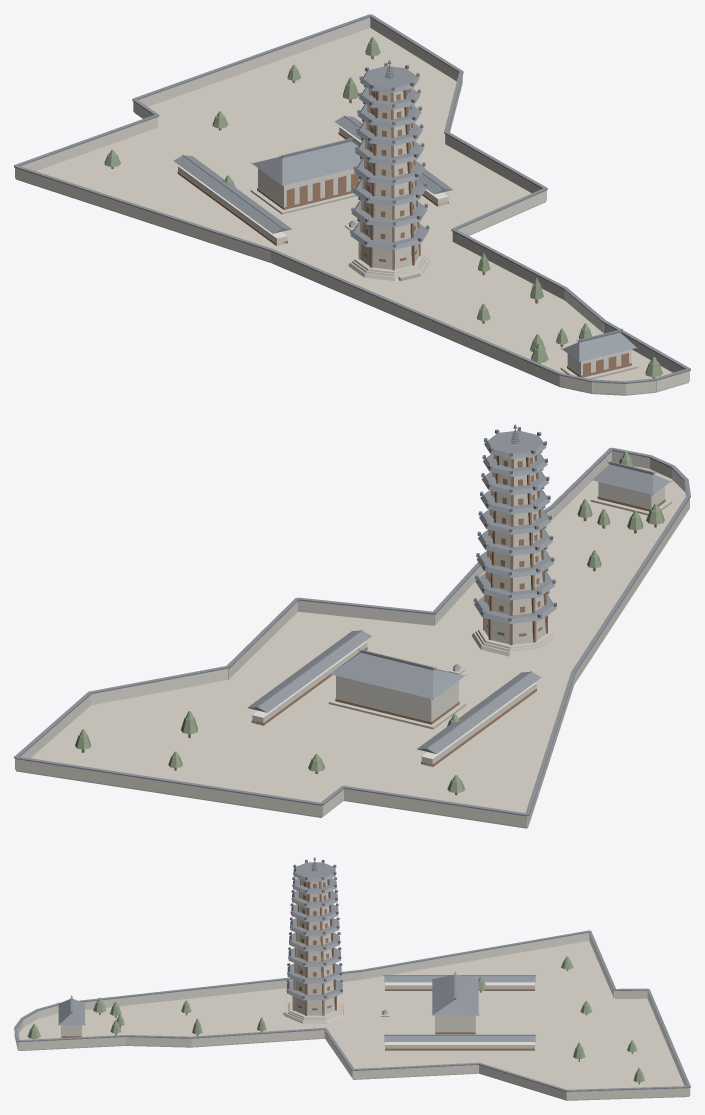
The model's file is beisita.glb.
3 views of the same model, one above another, from view 1: azimuth 30°, elevation 25°; view 2: azimuth 150°, elevation 25°; view 3: azimuth 270°, elevation 25° (orthographic). The views are drawn at different scales.
Visible parts, largest first — view 1: beisita_stone, beisita_tile, beisita_wall, beisita_wood, beisita_brick, beisita_leaf; view 2: beisita_stone, beisita_tile, beisita_wall, beisita_brick, beisita_wood, beisita_leaf; view 3: beisita_stone, beisita_wall, beisita_tile, beisita_brick, beisita_wood, beisita_leaf.
Boxes of the visible parts, left/top/right/bottom form: beisita_stone: left=16, top=28, right=688, bottom=395; beisita_tile: left=14, top=14, right=690, bottom=383; beisita_wall: left=15, top=17, right=689, bottom=394; beisita_wood: left=111, top=56, right=655, bottom=378; beisita_brick: left=360, top=90, right=419, bottom=269; beisita_leaf: left=104, top=37, right=662, bottom=377; beisita_stone: left=16, top=466, right=685, bottom=828; beisita_tile: left=14, top=424, right=690, bottom=816; beisita_wall: left=15, top=451, right=689, bottom=827; beisita_brick: left=484, top=455, right=545, bottom=644; beisita_wood: left=81, top=455, right=665, bottom=795; beisita_leaf: left=75, top=451, right=664, bottom=793; beisita_stone: left=18, top=940, right=689, bottom=1100; beisita_wall: left=14, top=933, right=690, bottom=1099; beisita_tile: left=14, top=857, right=690, bottom=1091; beisita_brick: left=294, top=880, right=335, bottom=1015; beisita_wood: left=34, top=879, right=639, bottom=1084; beisita_leaf: left=27, top=956, right=644, bottom=1082.
Bounding box in the file's own units: 173 × 77.8 × 307.
